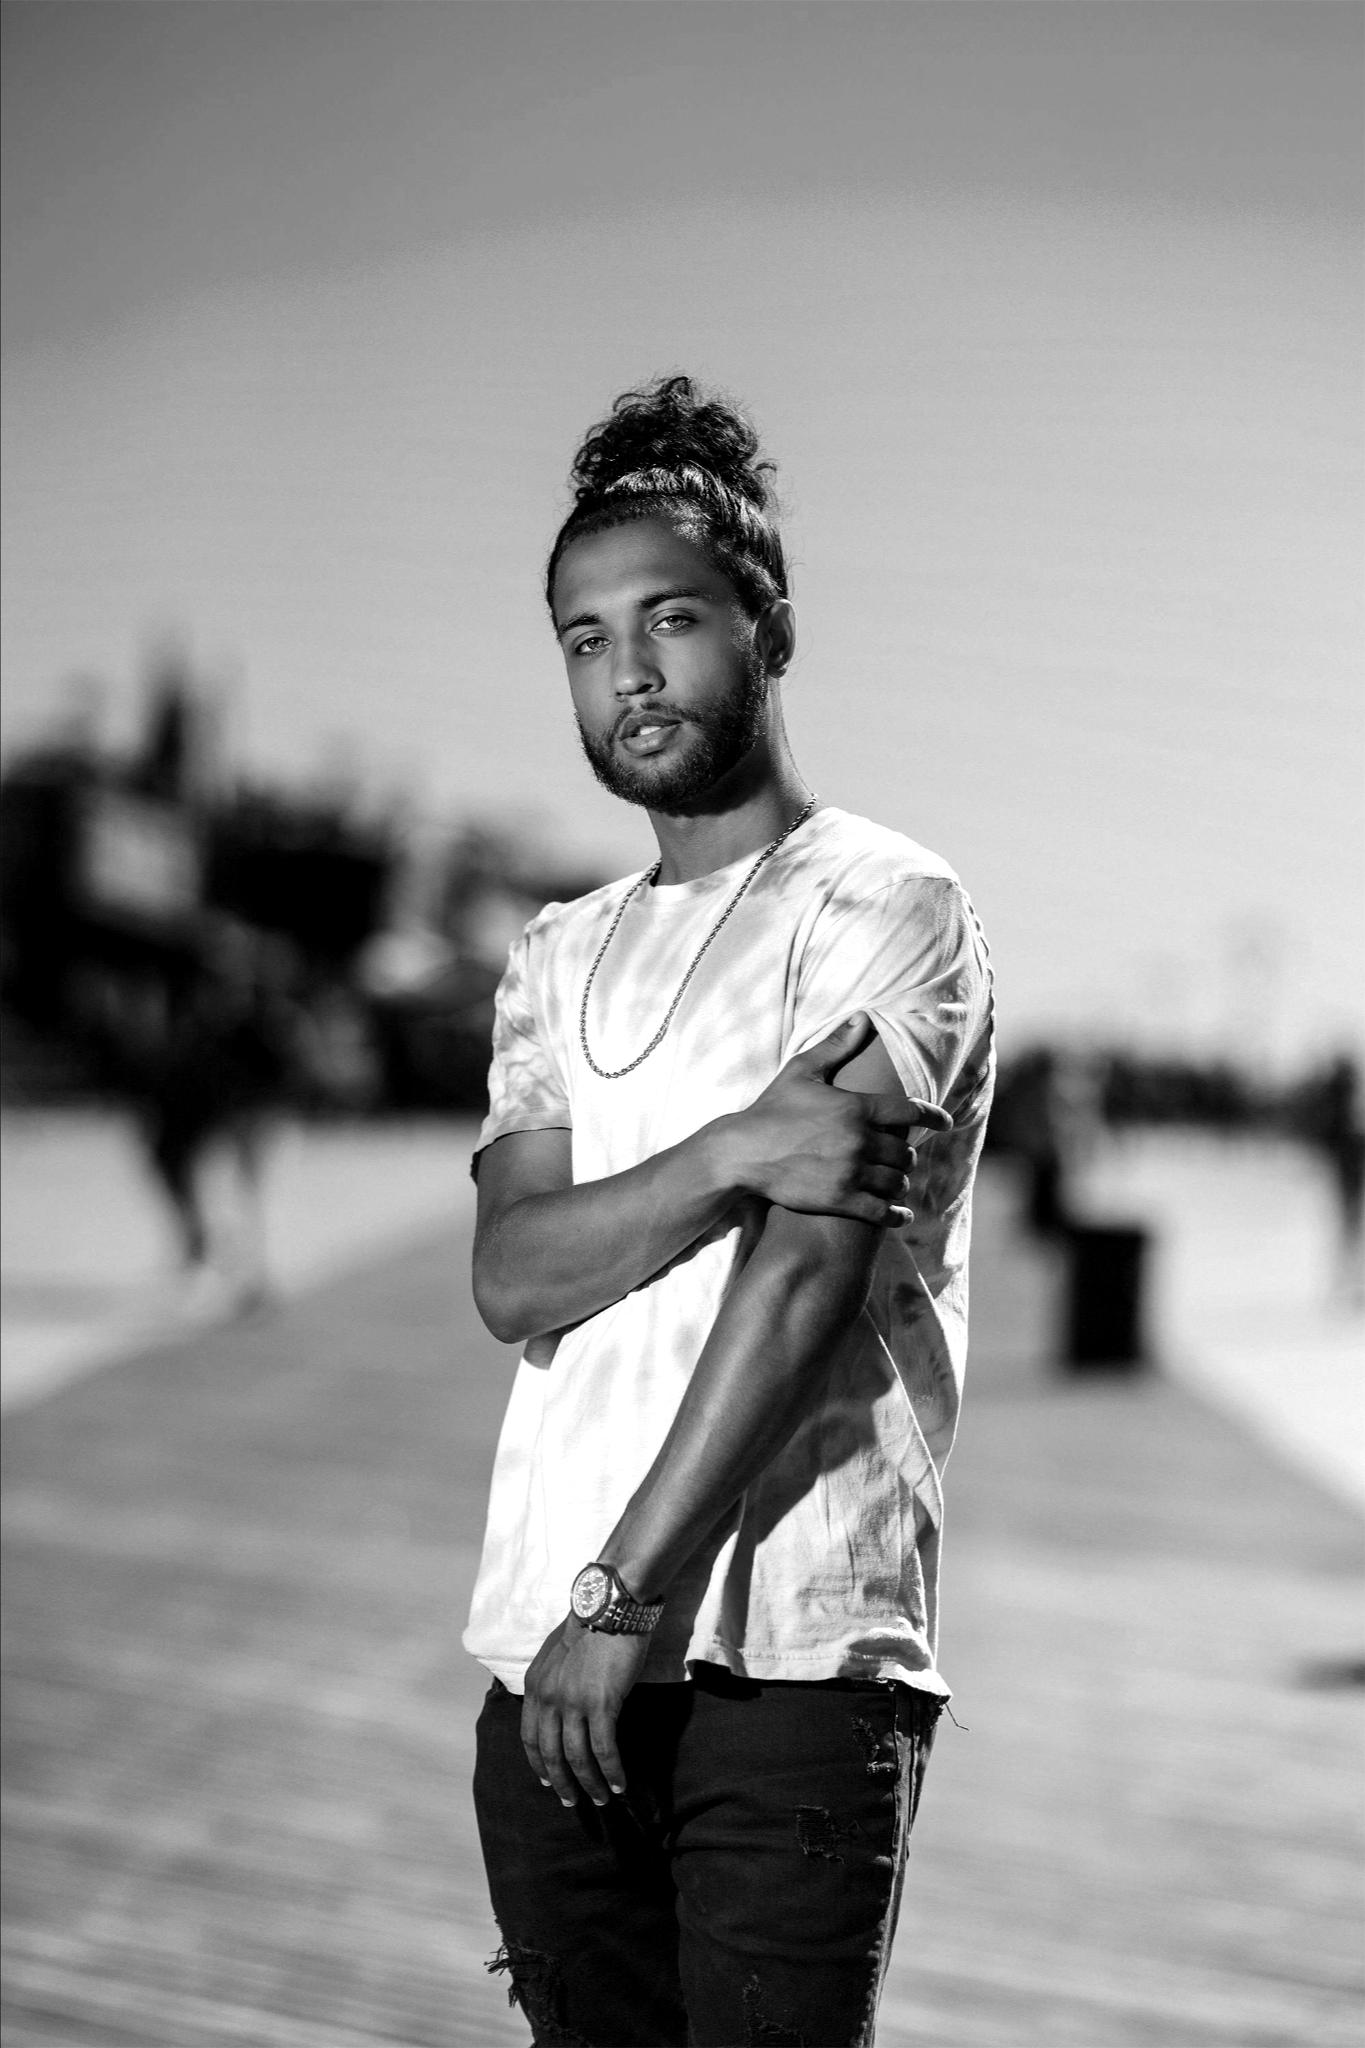bar: (577, 650, 766, 815)
